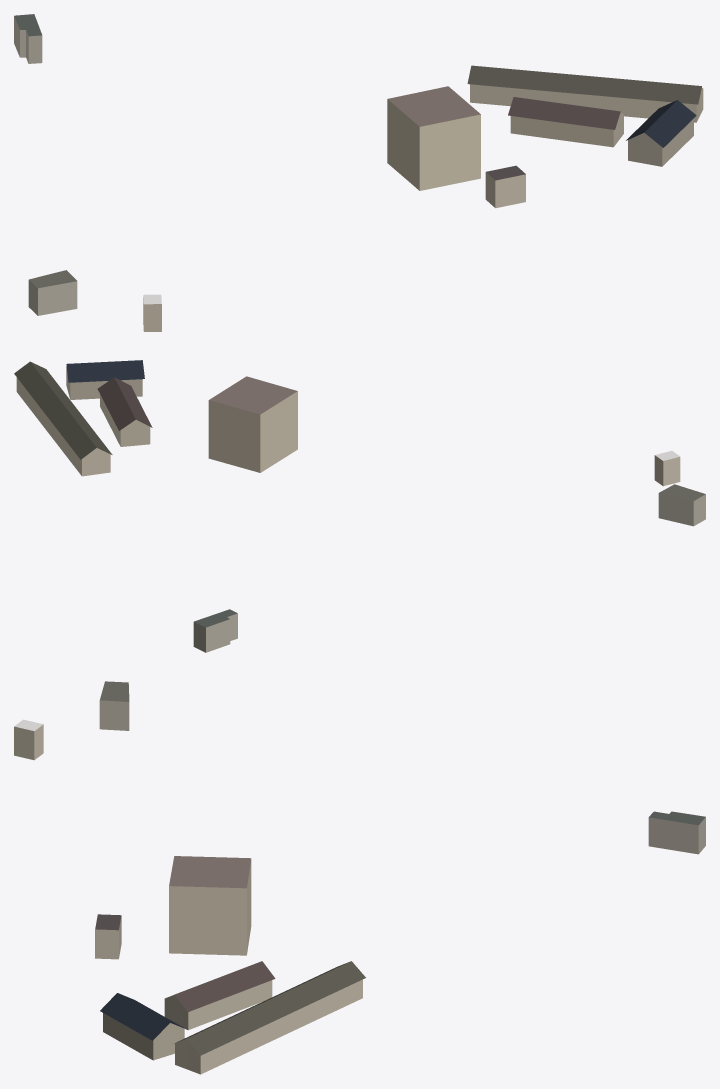
3 views of the same model, one above another, from view 1: azimuth 30°, elevation 25°; view 2: azimuth 150°, elevation 25°; view 3: azimuth 270°, elevation 25° (orthographic). The views are drawn at different scales.
Visible parts, largest first — view 1: tuile; view 2: tuile; view 3: tuile.
Boxes of the visible parts, <box> form: tuile: <box>14,14,703,331</box>; tuile: <box>14,360,705,652</box>; tuile: <box>14,681,705,1074</box>.
Size of the model in its own units: 131 by 11.84 by 105.
